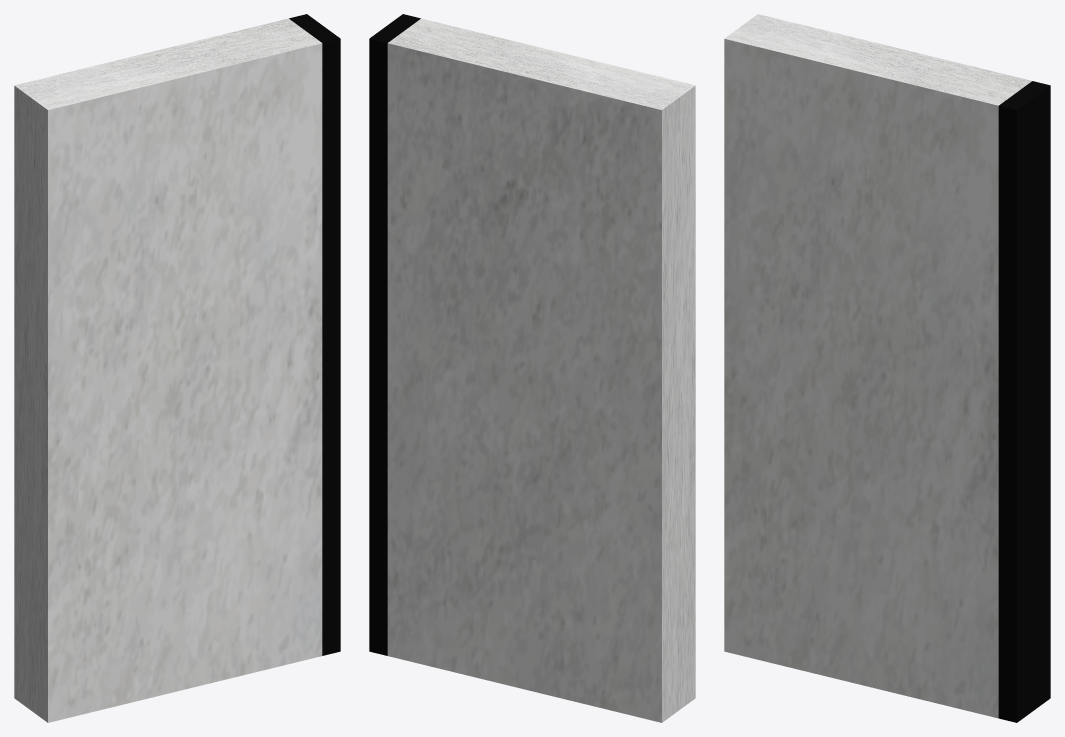
The model's file is leftDoor.gltf.
3 views of the same model, side by side, from view 1: azimuth 30°, elevation 25°; view 2: azimuth 150°, elevation 25°; view 3: azimuth 330°, elevation 25° (orthographic).
Visible parts, largest first — view 1: Cube; view 2: Cube; view 3: Cube.
Part boxes in pixels (x1,y1,x2,y2): Cube: (14, 14, 340, 722); Cube: (369, 14, 695, 722); Cube: (724, 14, 1050, 722).
Size of the model in its own units: 2 by 4 by 0.4.
Materials: 2 (1 with a texture image).
